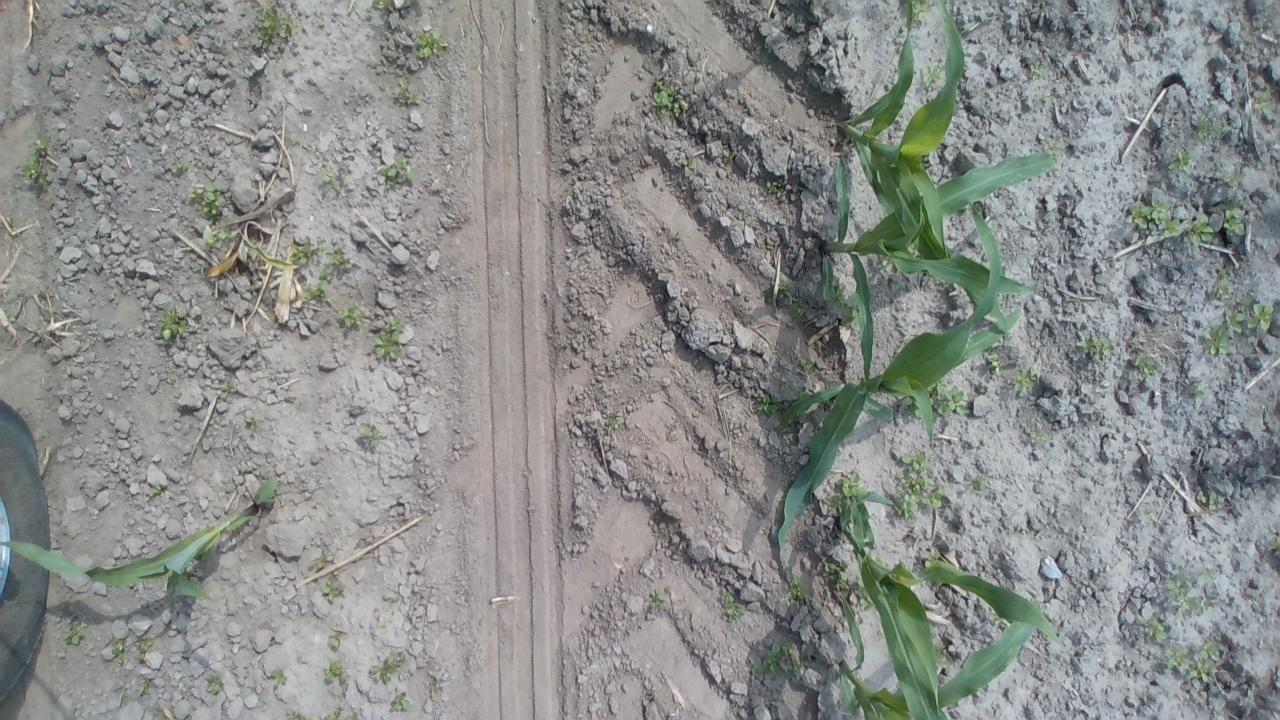Maize: (772, 250, 1024, 570), (818, 153, 1052, 414), (834, 484, 1078, 720), (832, 0, 968, 275), (0, 476, 280, 604), (830, 586, 1042, 720)
Weeds: (1124, 198, 1215, 244), (894, 452, 946, 523), (1164, 638, 1223, 682), (1166, 568, 1220, 614), (286, 234, 352, 271), (17, 127, 50, 188), (1224, 295, 1274, 334), (749, 640, 802, 674), (924, 377, 968, 417), (256, 6, 295, 48), (651, 76, 688, 115), (373, 312, 402, 361), (830, 282, 859, 330), (189, 180, 223, 220), (369, 650, 408, 682), (928, 622, 955, 668), (376, 157, 417, 186), (156, 309, 190, 343), (1074, 334, 1116, 360), (414, 30, 448, 62), (1192, 116, 1226, 146), (1222, 199, 1247, 235), (322, 658, 351, 689), (1135, 616, 1169, 642), (1203, 325, 1232, 355), (336, 297, 364, 328), (201, 224, 238, 247), (1167, 145, 1196, 174), (1135, 355, 1163, 385), (720, 590, 746, 622), (62, 616, 89, 646), (835, 471, 866, 496), (390, 78, 418, 104), (299, 281, 329, 304), (753, 391, 778, 417), (321, 576, 345, 603), (854, 576, 875, 606), (388, 692, 416, 714), (134, 634, 156, 661), (921, 62, 945, 86), (1013, 368, 1036, 393), (823, 560, 848, 582), (789, 296, 810, 321), (1214, 270, 1232, 299), (919, 544, 940, 568), (1252, 87, 1272, 112), (821, 494, 843, 516), (1043, 134, 1065, 156), (358, 422, 386, 439), (1187, 381, 1209, 402), (910, 0, 931, 22), (984, 350, 1002, 375), (788, 576, 806, 600), (648, 586, 666, 610), (112, 638, 126, 666), (205, 673, 222, 696), (792, 382, 812, 401), (1029, 61, 1049, 80), (136, 678, 154, 698), (798, 356, 816, 376), (904, 398, 922, 418), (308, 551, 326, 570), (319, 164, 336, 184), (270, 670, 288, 688), (1222, 172, 1242, 188), (286, 709, 314, 720), (776, 280, 793, 298), (1200, 495, 1218, 512), (1029, 430, 1050, 444), (990, 611, 1007, 628), (679, 156, 698, 171), (968, 478, 988, 492), (242, 411, 256, 431), (766, 180, 785, 194), (323, 706, 342, 720), (167, 162, 190, 173), (368, 0, 392, 10), (220, 382, 236, 397), (328, 632, 342, 648), (774, 424, 794, 434), (722, 148, 736, 162), (1267, 535, 1280, 550), (606, 417, 620, 430), (148, 485, 162, 498), (1037, 90, 1052, 102), (317, 270, 333, 281), (1141, 509, 1153, 522), (646, 688, 658, 700), (560, 338, 572, 350), (346, 712, 362, 720), (431, 683, 442, 694), (670, 231, 681, 241), (766, 289, 773, 304), (962, 62, 968, 72)
